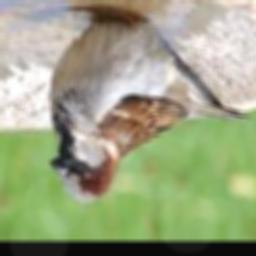Sparrow: (49, 15, 250, 204)
